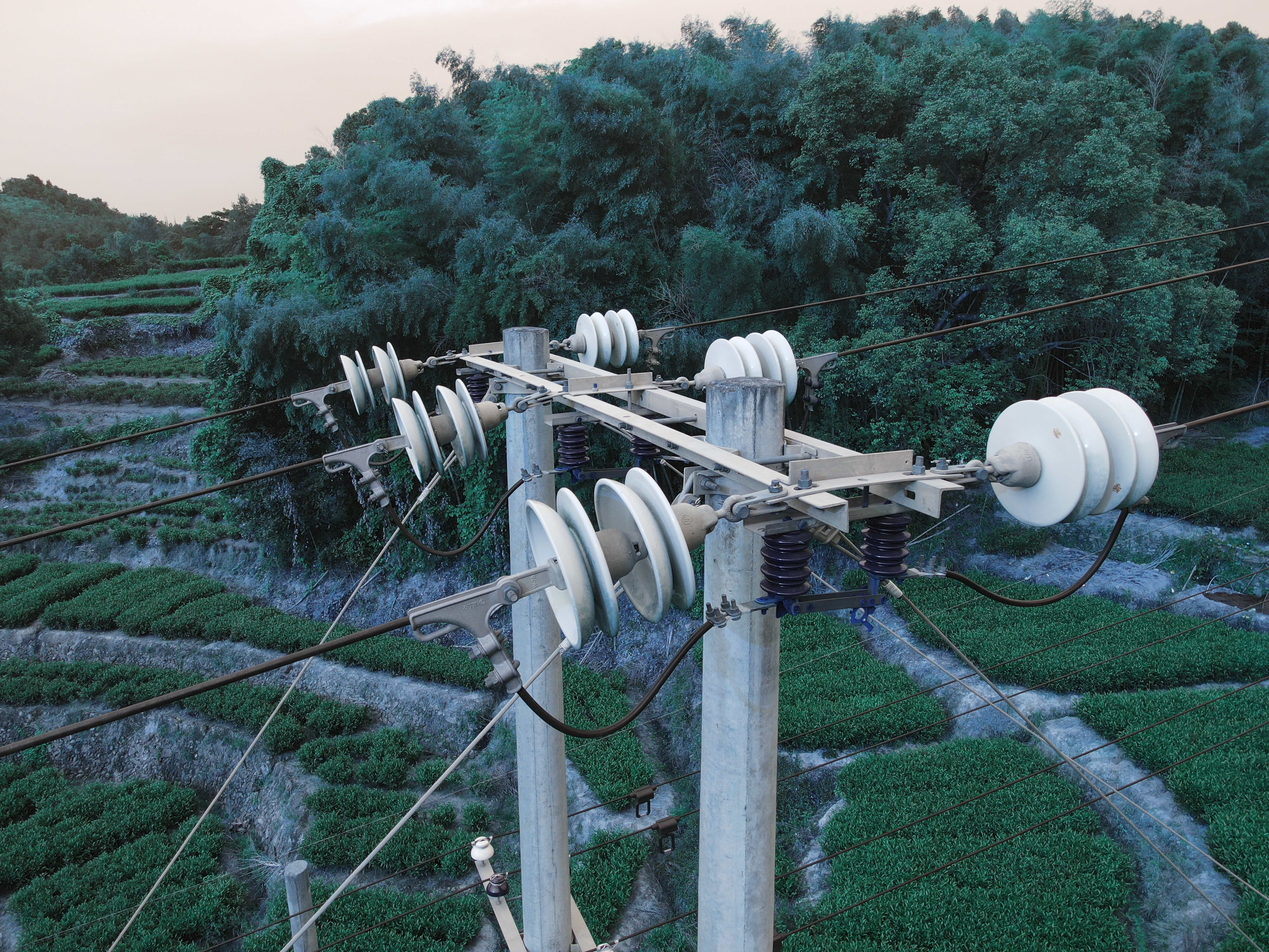severe_soiling_no_discharge_whole: (518, 465, 722, 655), (390, 378, 511, 483)
